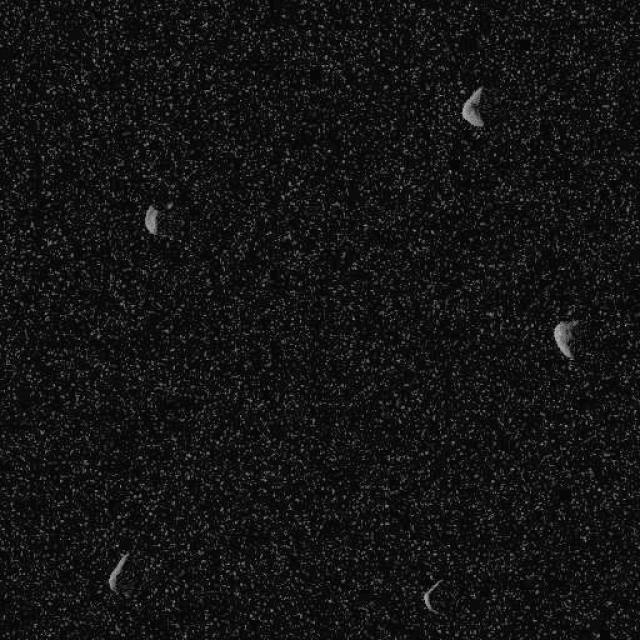D2: (552, 318, 578, 360), (460, 85, 485, 127), (106, 550, 129, 594), (421, 577, 444, 615), (142, 204, 158, 235)
